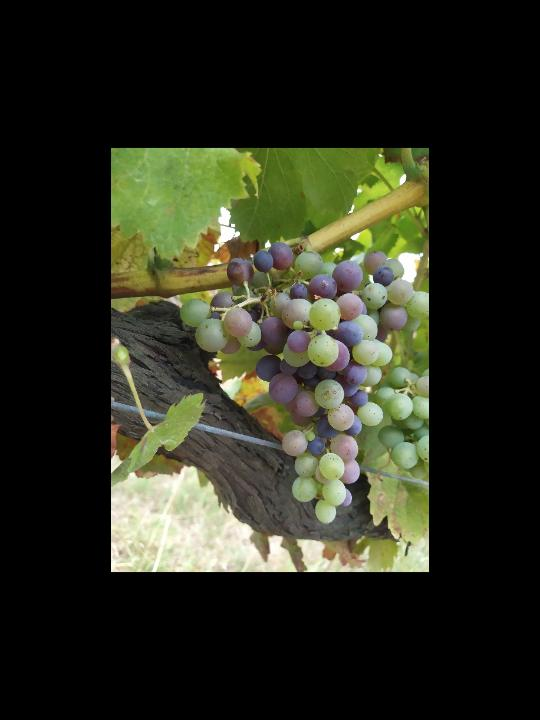grape: (179, 240, 429, 526)
